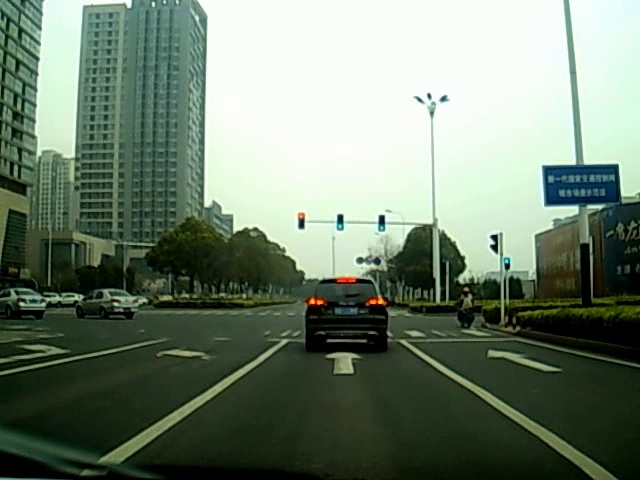Traffic_Light_go: (378, 216, 386, 235), (336, 214, 343, 232)
Traffic_Light_stop: (298, 213, 304, 229)
